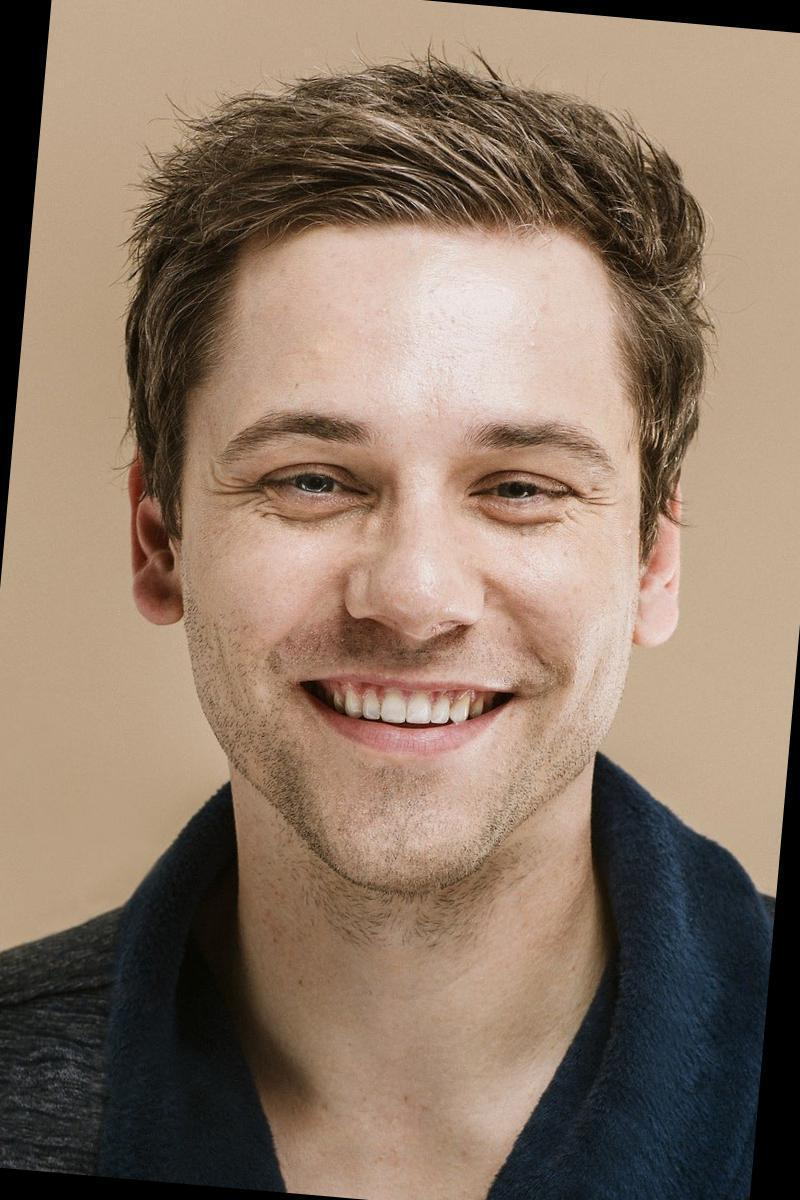Sober: (238, 238, 600, 880)
